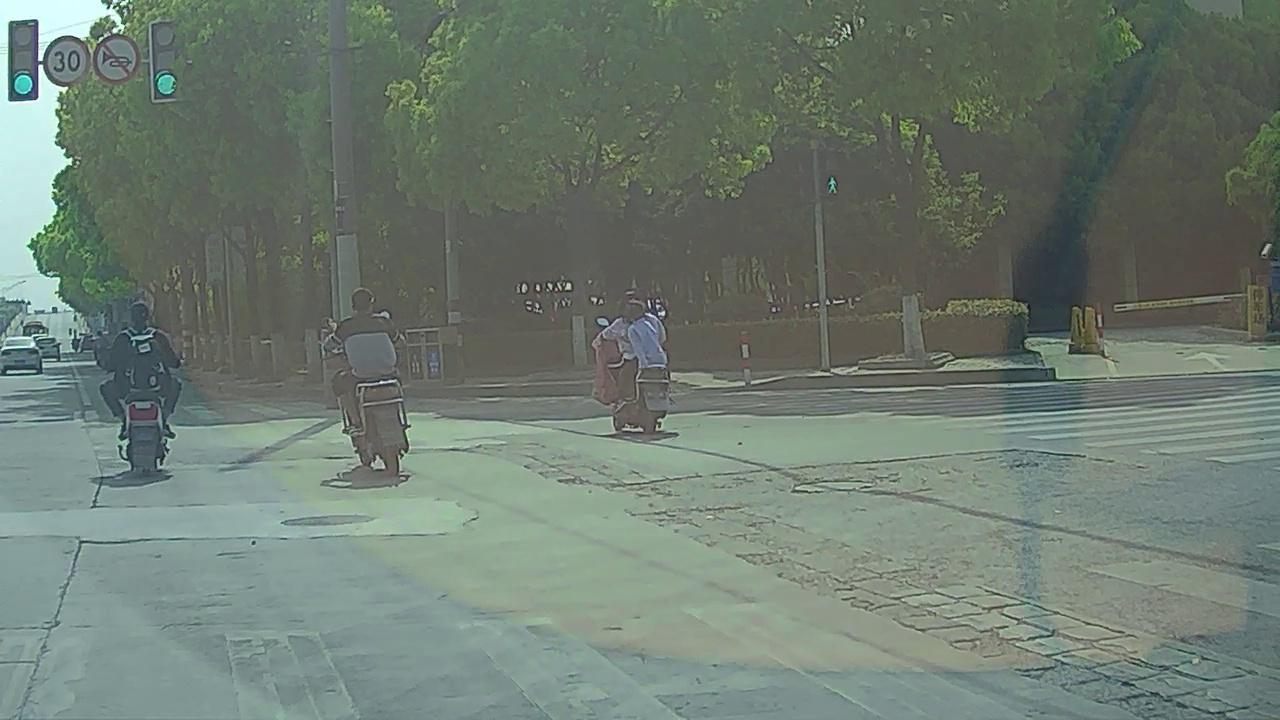traffic_light: (151, 23, 178, 100), (10, 21, 36, 100)
